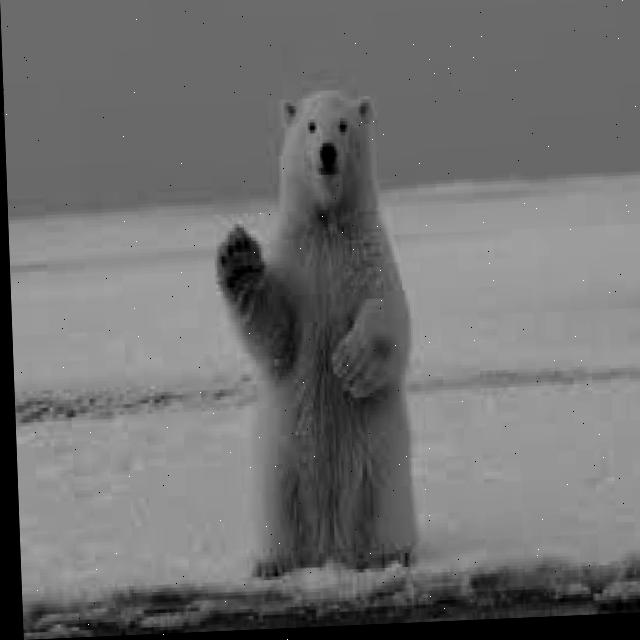Bear: (226, 82, 409, 573)
